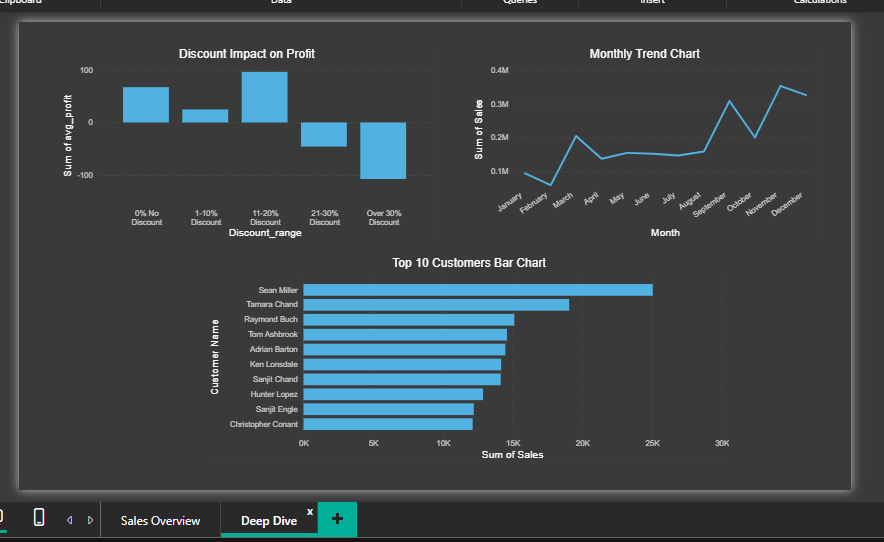

The page's visual inventory and layout, read from the dashboard file:
{"tool":"powerbi","page":{"name":" Deep Dive","canvas":[1280,720],"ordinal":1},"visuals":[{"type":"clusteredColumnChart","title":"Discount Impact on Profit","fields":{"Category":["discount_data.Discount_range"],"Y":["Sum(discount_data.avg_profit)"]},"box":[61.2,38.8,578.1,298.8],"z":0},{"type":"lineChart","title":"Monthly Trend Chart","fields":{"Category":["monthly_trend.Order Date.Variation.Date Hierarchy.Month"],"Y":["Sum(monthly_trend.Sales)"]},"box":[693.1,38.8,537.8,298.8],"z":1000},{"type":"clusteredBarChart","title":"Top 10 Customers Bar Chart ","fields":{"Category":["top_customers.Customer Name"],"Y":["Sum(top_customers.Sales)"]},"box":[288.3,360,809.6,318.2],"z":2000}]}

Visuals, with their boxes on the page's 1280x720 design canvas (x1, y1, x2, y2). These are canvas units, not pixel positions in the 884x542 screenshot, which may show the page scaled, cropped or inside an application window:
"Discount Impact on Profit" clusteredColumnChart: [left=61, top=39, right=639, bottom=338]
"Monthly Trend Chart" lineChart: [left=693, top=39, right=1231, bottom=338]
"Top 10 Customers Bar Chart " clusteredBarChart: [left=288, top=360, right=1098, bottom=678]
